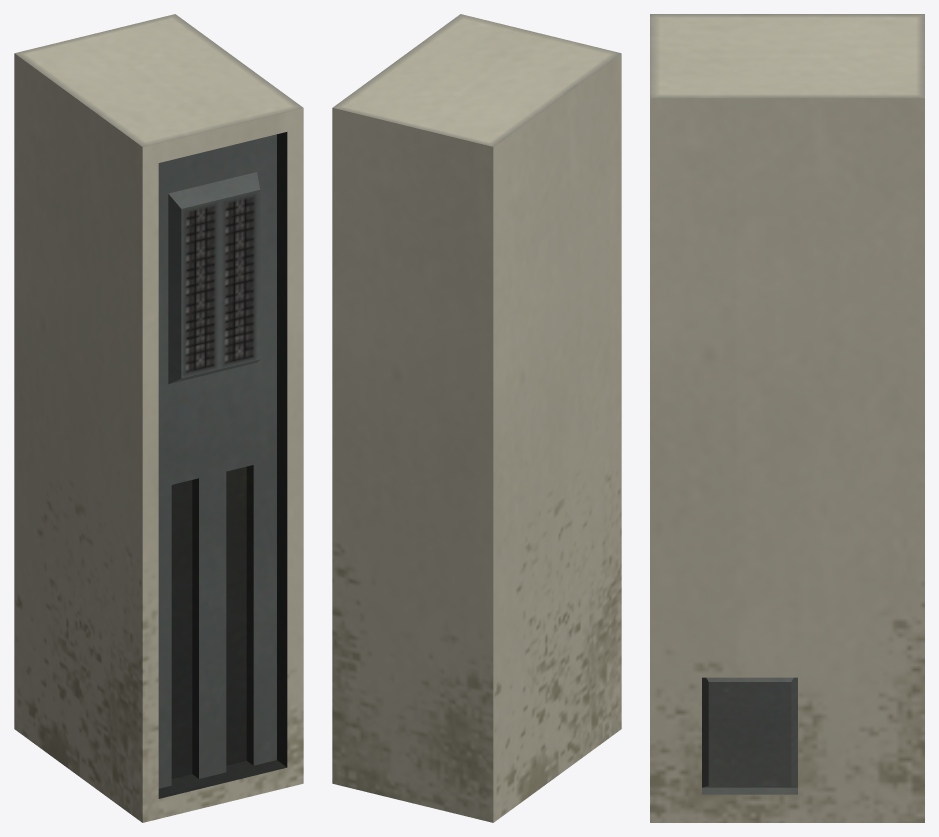
Rendered from Server.fbx.
The picture shows the model from 3 angles, left to right: view 1: azimuth 30°, elevation 25°; view 2: azimuth 150°, elevation 25°; view 3: azimuth 270°, elevation 25°; orthographic projection. The views are drawn at different scales.
Visible parts, largest first — view 1: Server; view 2: Server; view 3: Server.
Boxes of the visible parts, bbox=[...] form: Server: bbox=[14, 14, 303, 822]; Server: bbox=[332, 14, 621, 822]; Server: bbox=[650, 14, 924, 822].
Bounding box in the file's own units: 42.37 × 170 × 58.42.
